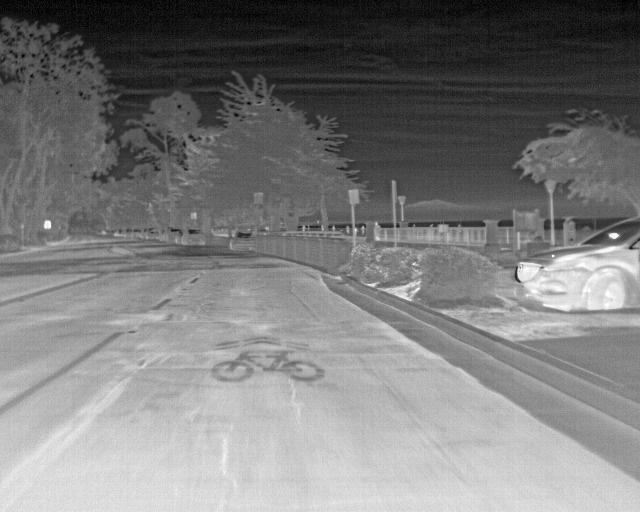car: (514, 214, 639, 314), (227, 230, 253, 250), (184, 227, 205, 244), (169, 227, 183, 243), (157, 227, 169, 241), (148, 228, 160, 241)
